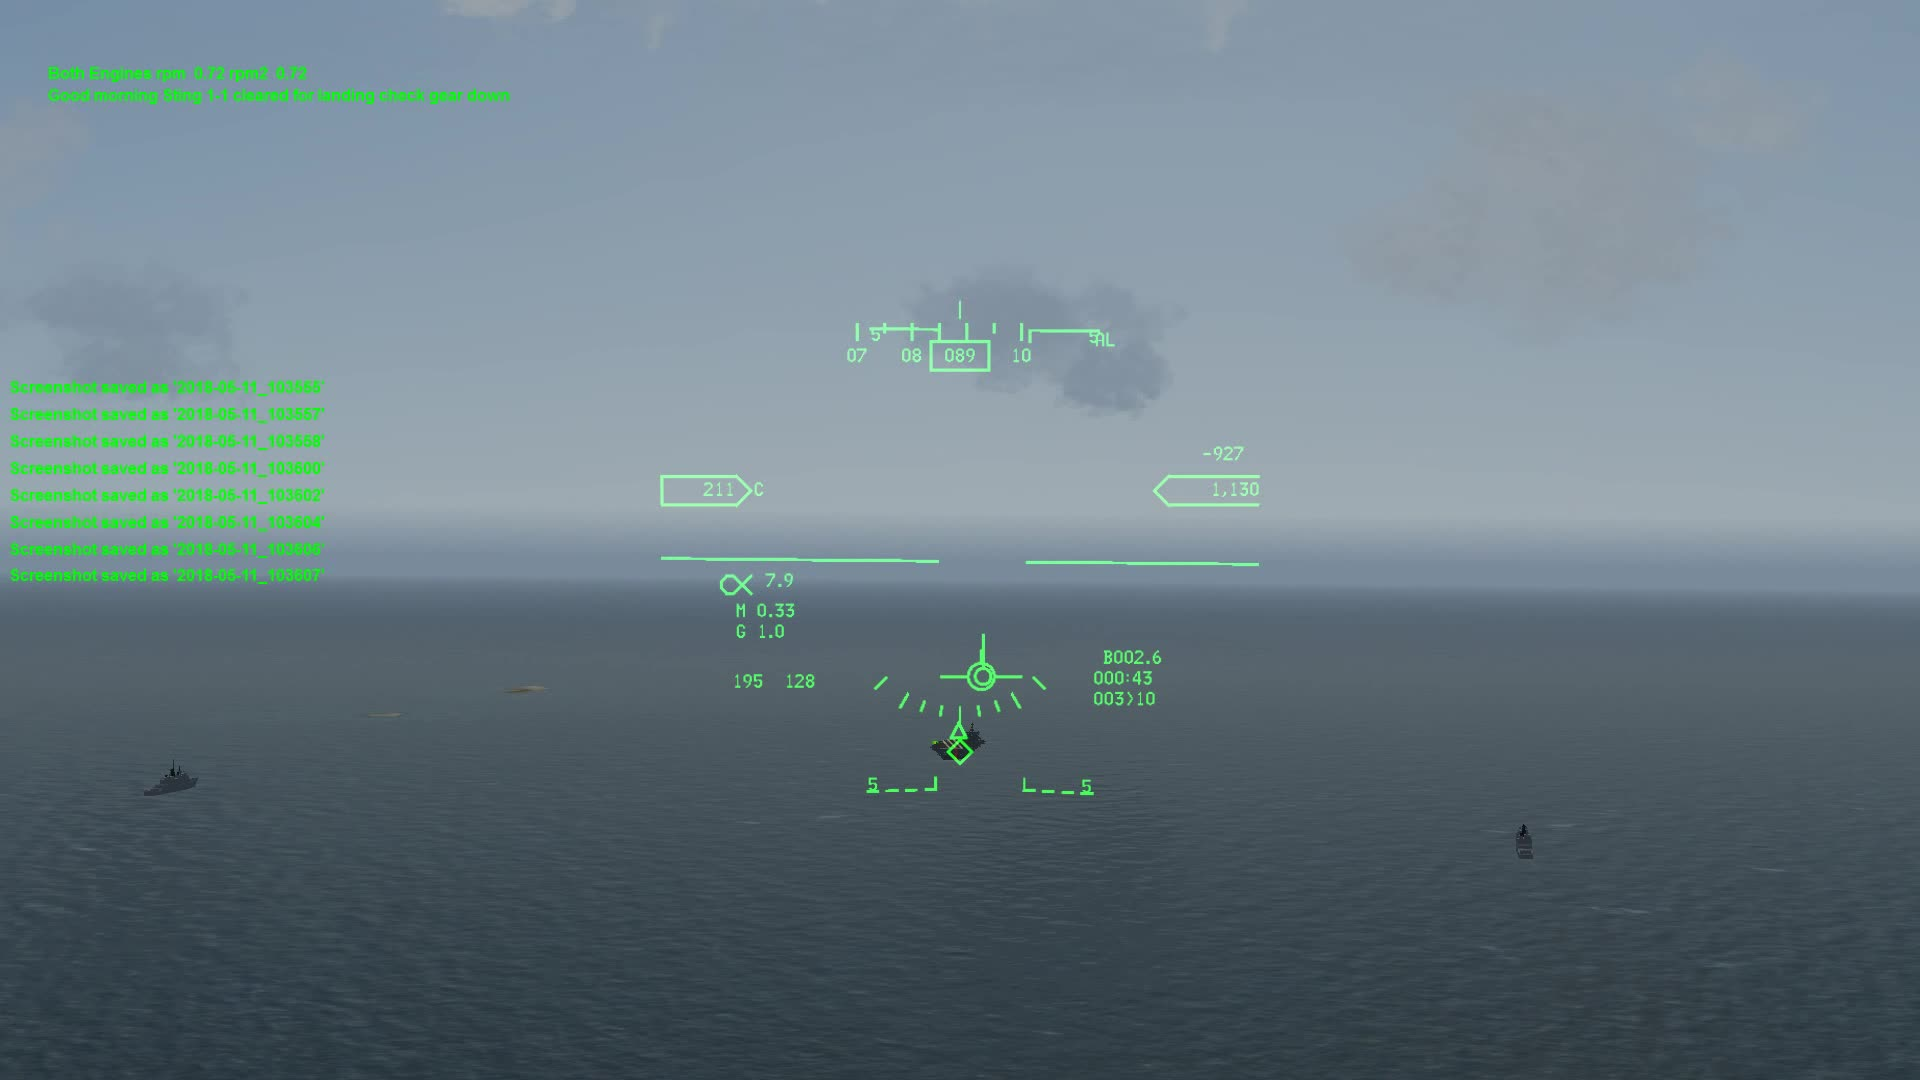speed vector: (938, 633, 1029, 698)
